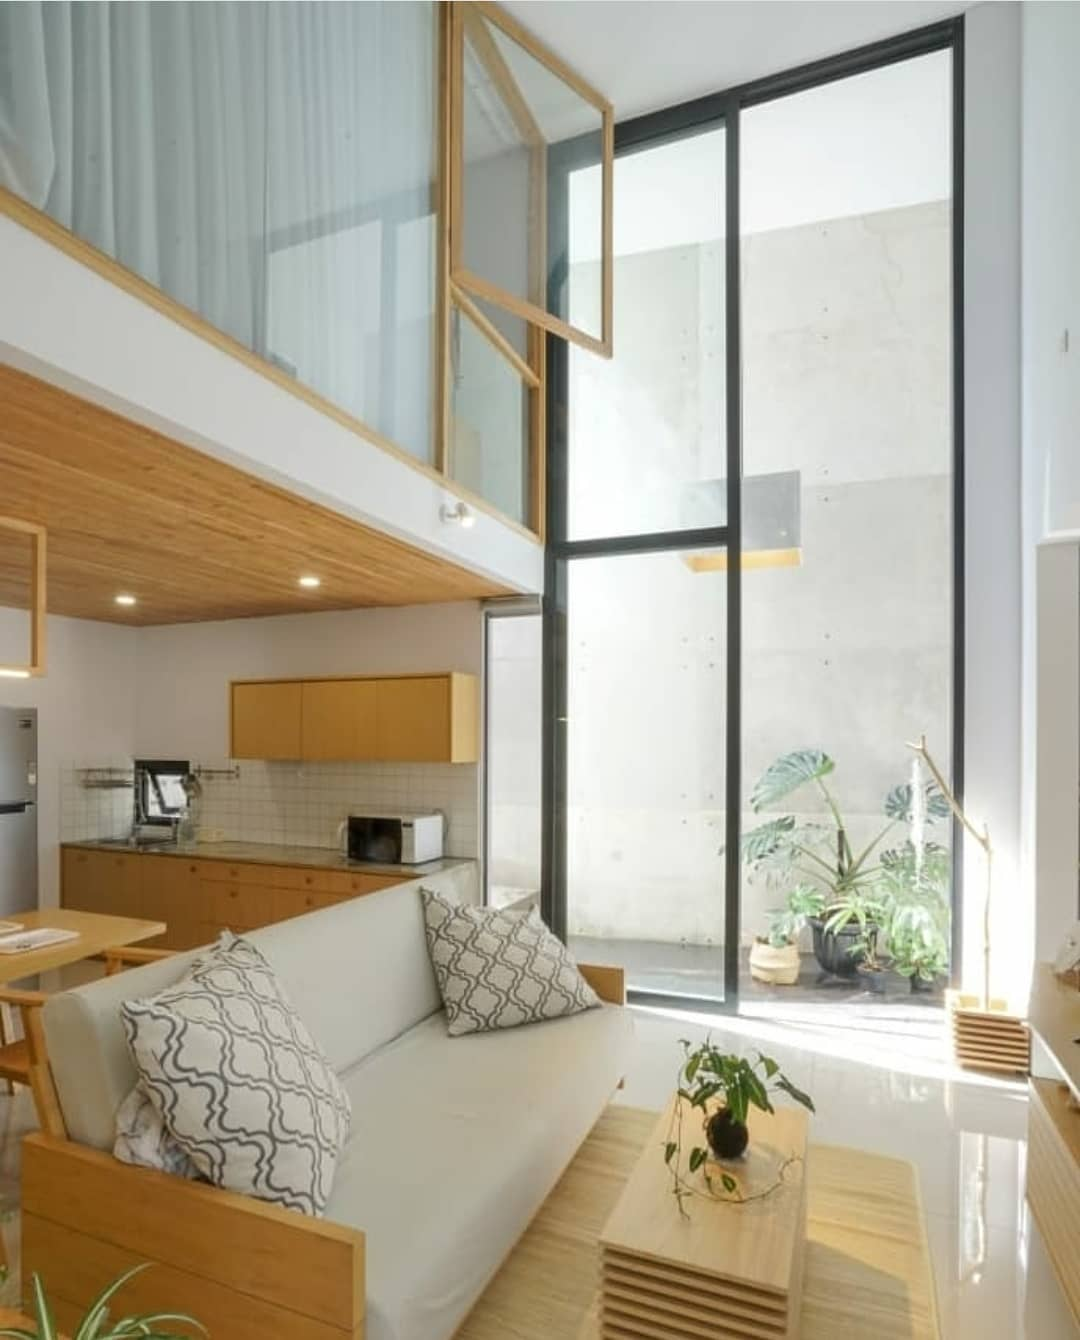Bantal: (105, 919, 355, 1225), (408, 873, 613, 1045)
Sova: (1, 857, 613, 1338)
Tanaman: (732, 738, 946, 1004), (666, 1027, 801, 1213)
meja: (600, 1084, 817, 1340)
